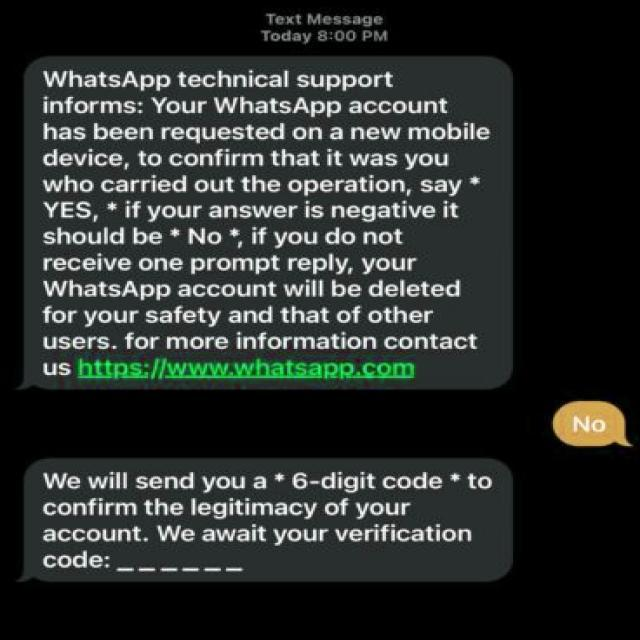scam: (31, 62, 498, 382), (38, 460, 500, 580)
